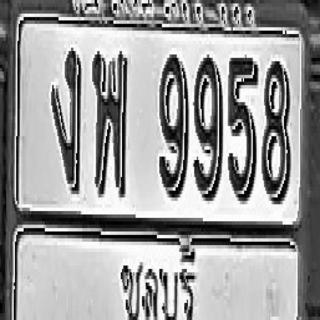A07: (51, 46, 81, 192)
A30: (91, 49, 128, 196)
N05: (228, 54, 258, 201)
N08: (261, 58, 290, 201)
N09: (158, 51, 188, 198), (194, 54, 222, 201)
P13: (114, 240, 199, 320)
